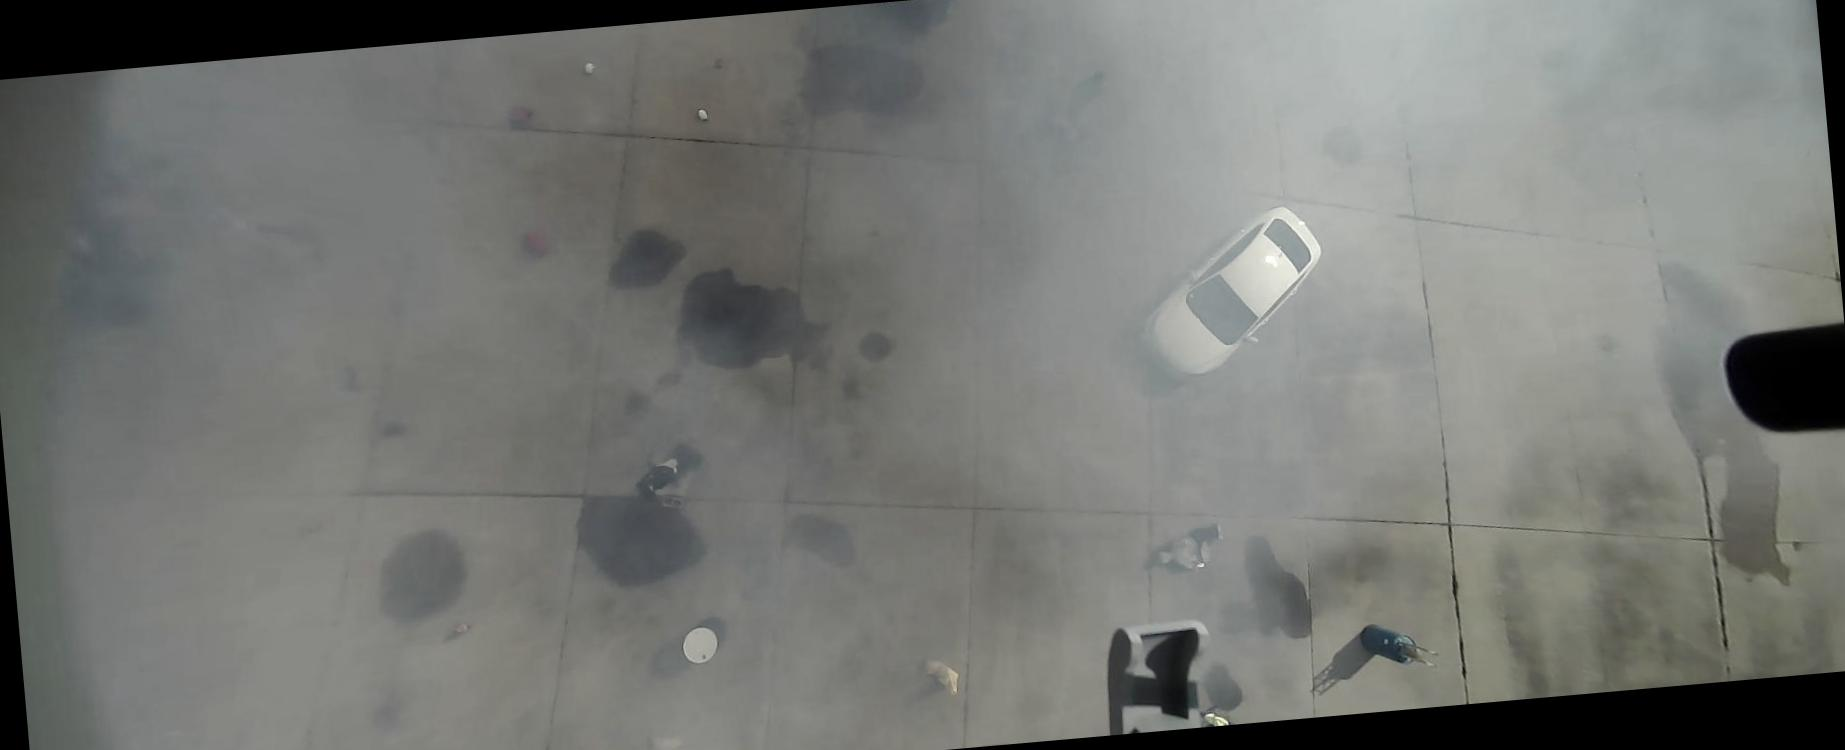vehicle: (1130, 199, 1334, 381), (888, 0, 959, 36)
